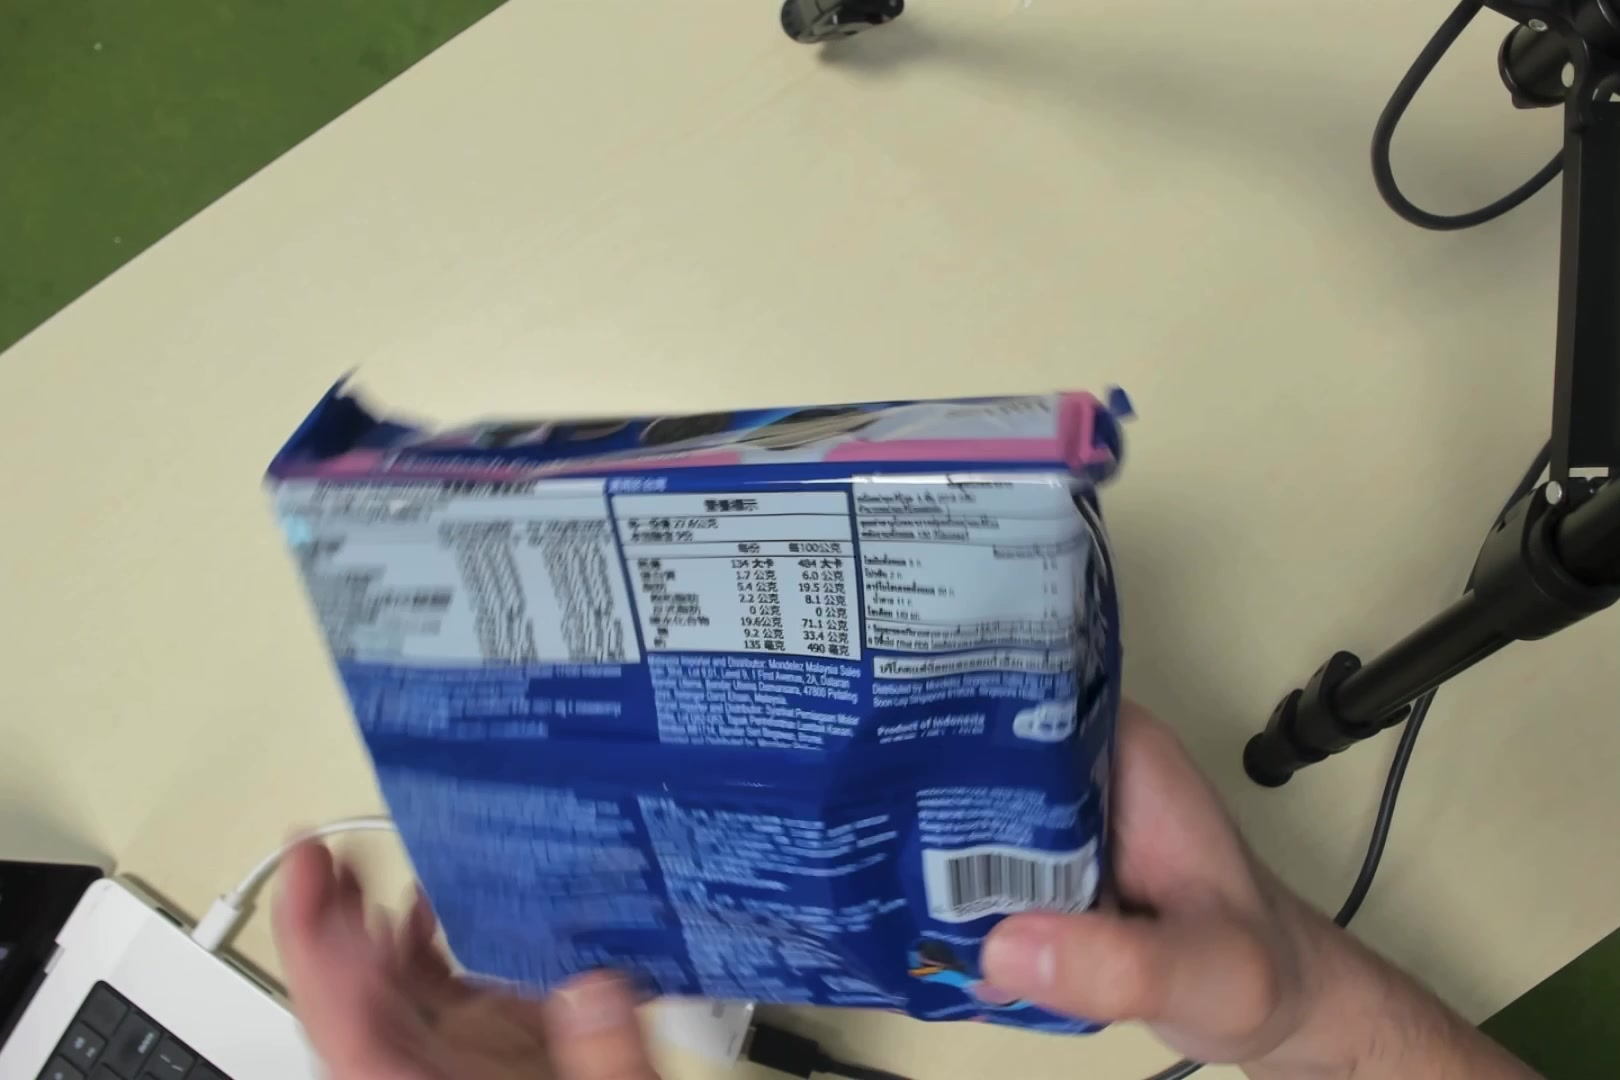SweetsChocolatesOthers_200-299g_Halal_NonHealthy: (318, 412, 1108, 1019)
